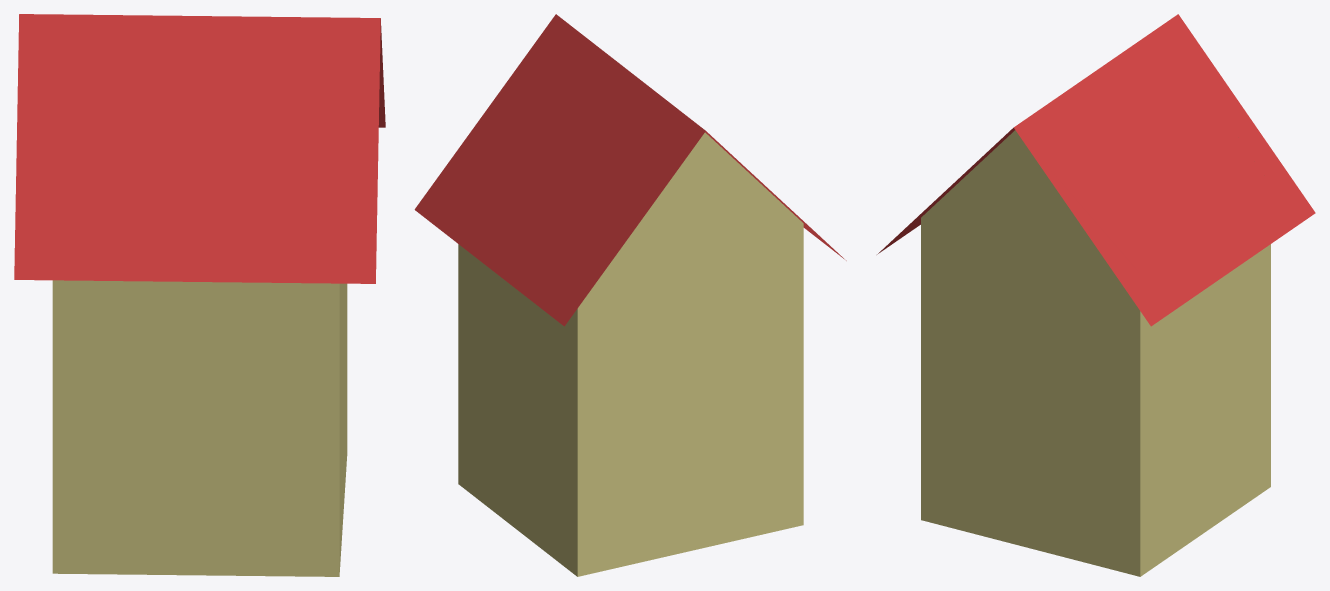
3 views of the same model, side by side, from view 1: azimuth 30°, elevation 25°; view 2: azimuth 150°, elevation 25°; view 3: azimuth 270°, elevation 25° (orthographic). The views are drawn at different scales.
Parts seen in each view (by area): view 1: group_5, group_3, group_4; view 2: group_5, group_3, group_4; view 3: group_5, group_3, group_4.
Part boxes in pixels (x1=…): group_5: x1=52, y1=280, x2=347, y2=576; group_3: x1=14, y1=14, x2=385, y2=283; group_4: x1=14, y1=14, x2=380, y2=283; group_5: x1=458, y1=132, x2=803, y2=576; group_3: x1=458, y1=14, x2=846, y2=274; group_4: x1=414, y1=16, x2=705, y2=326; group_5: x1=921, y1=130, x2=1270, y2=576; group_3: x1=877, y1=14, x2=1270, y2=318; group_4: x1=1015, y1=15, x2=1315, y2=326.
Bounding box in the file's own units: 13.44 × 13.51 × 14.67.
